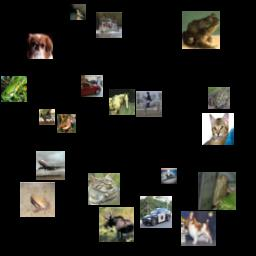airplane: (36, 151, 65, 180), (161, 168, 177, 184)
automobile: (140, 196, 172, 228), (81, 75, 103, 97)
bird: (57, 114, 76, 133), (70, 4, 86, 20)
cat: (88, 173, 120, 205), (202, 113, 234, 145)
deer: (99, 207, 134, 242)
dog: (181, 211, 216, 246), (27, 33, 53, 59)
frog: (182, 11, 220, 49), (198, 172, 236, 210), (20, 182, 55, 217), (1, 76, 27, 102), (208, 87, 230, 109)
ship: (96, 12, 122, 38)
